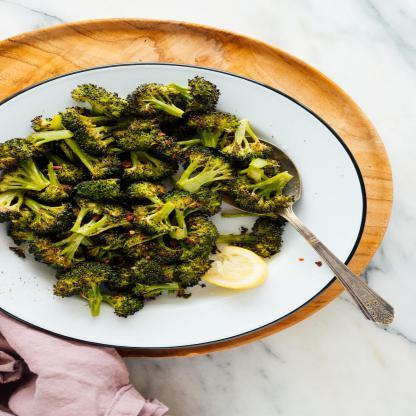broccoli: (0, 75, 296, 318)
